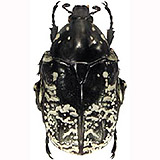Protaetia_funebris: (32, 1, 130, 160)
